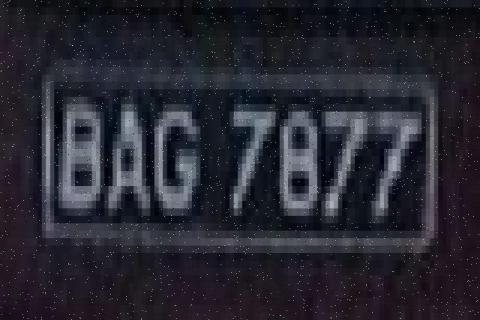LicensePlate: (21, 39, 456, 266)
